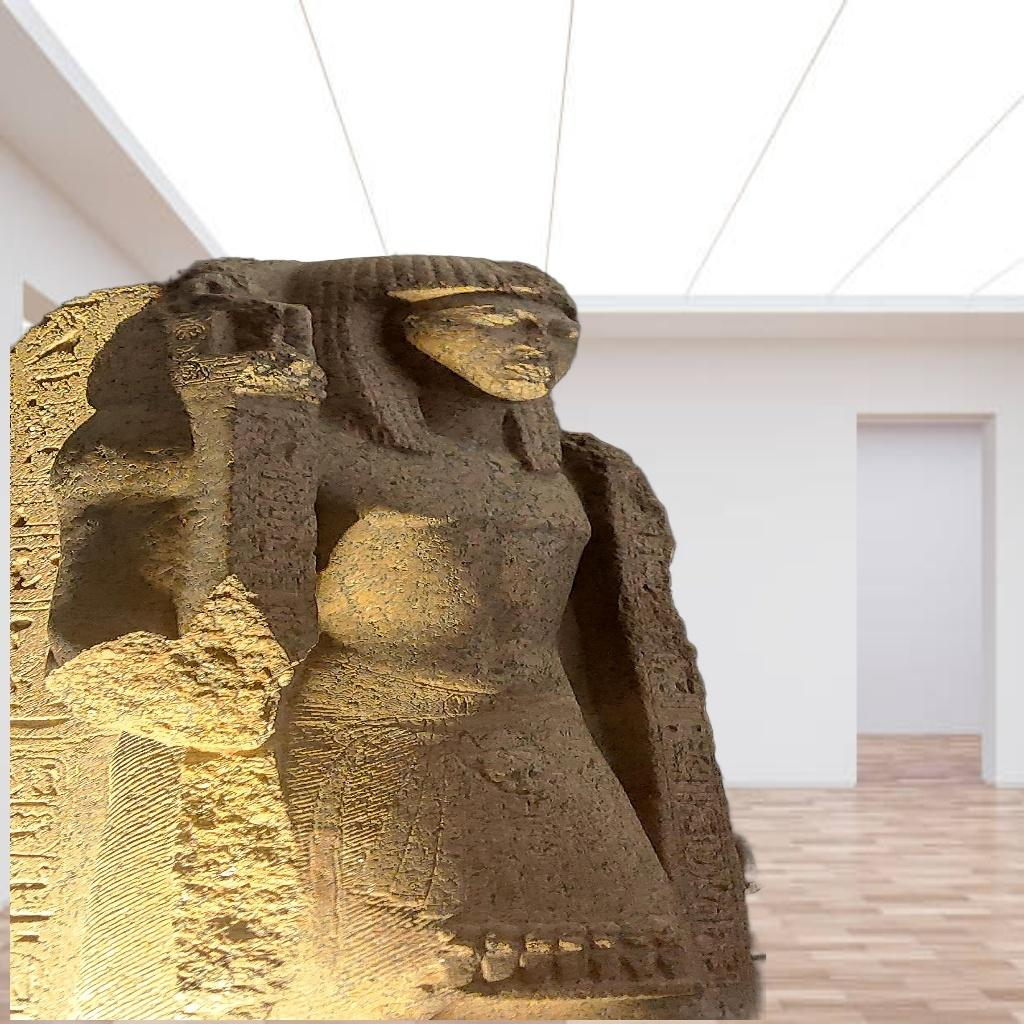Statue of Merenptah as standard Bearer: (10, 251, 766, 1020)
